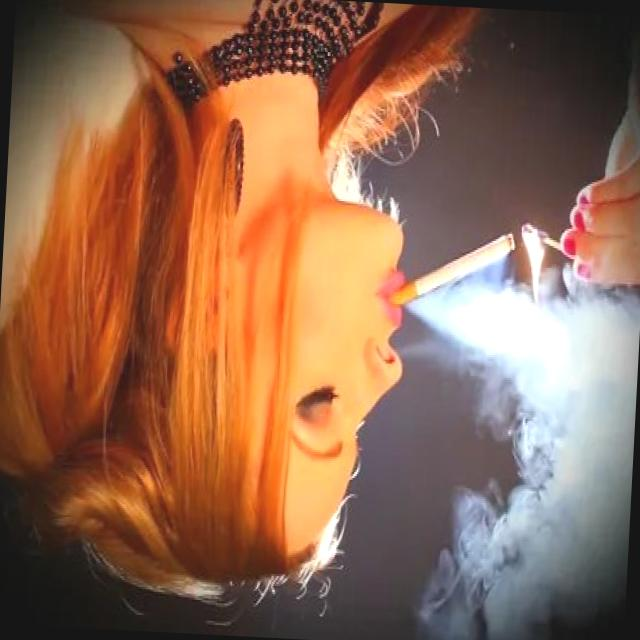cigarette: (384, 218, 516, 322)
